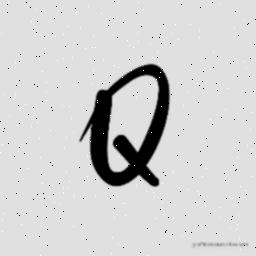q: (69, 56, 173, 194)
